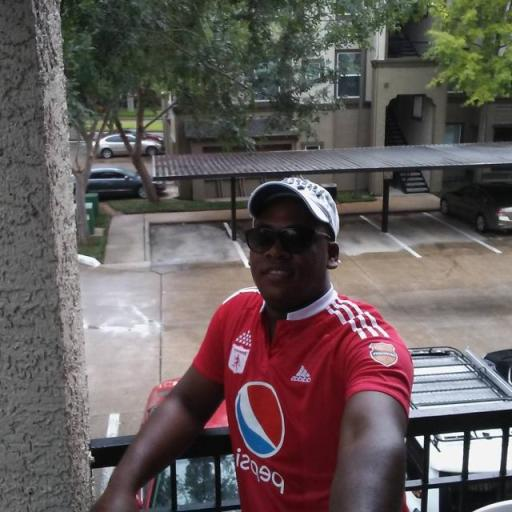Adidas: (291, 364, 315, 384)
